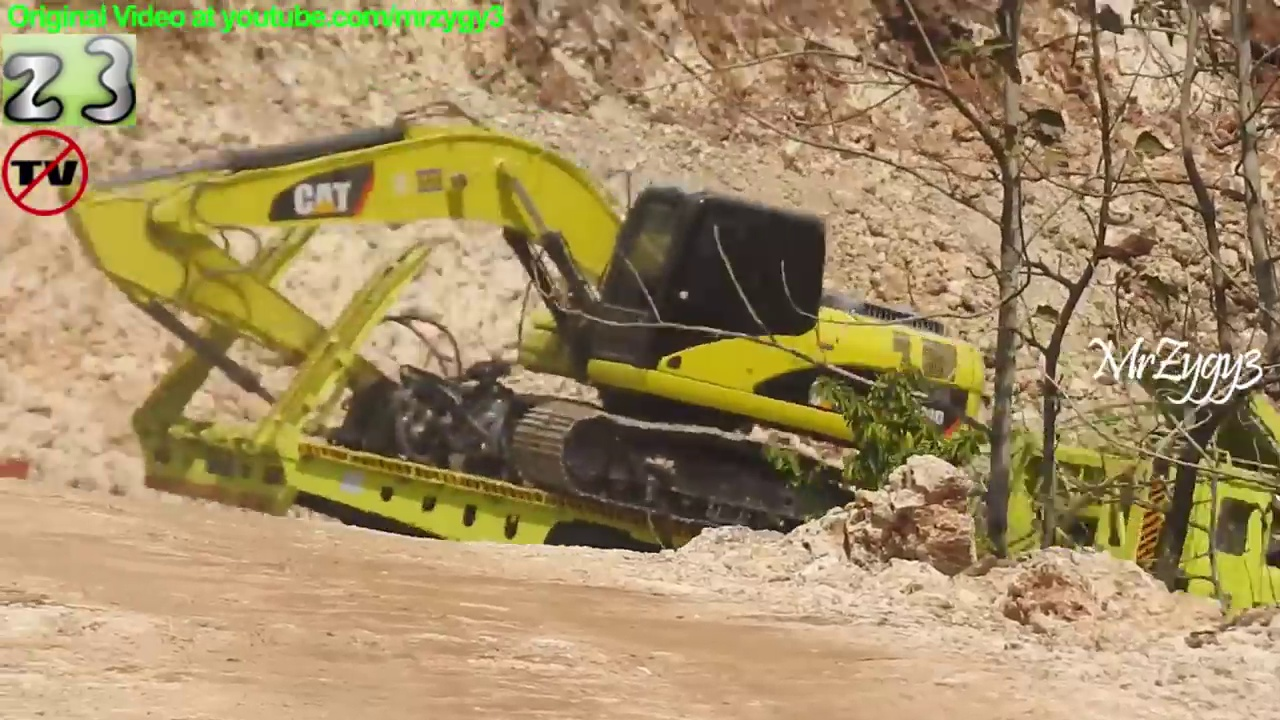excavator: (48, 99, 1093, 610), (940, 344, 1280, 640)
